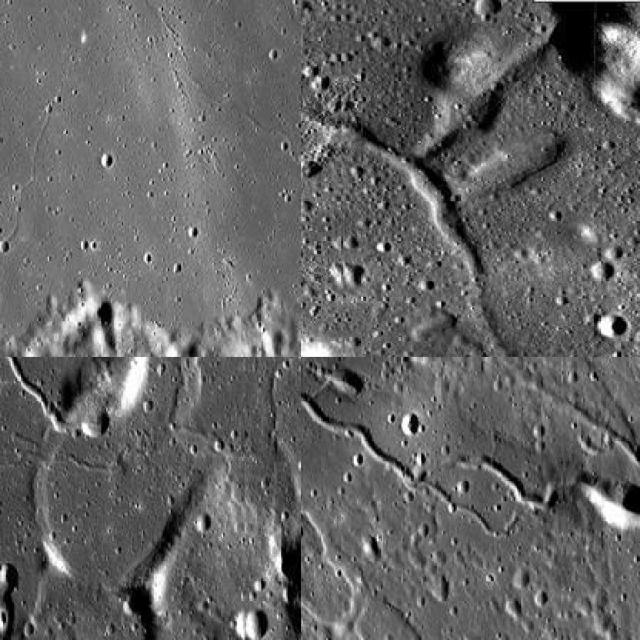rille: (300, 34, 638, 355), (0, 44, 298, 355), (300, 357, 535, 538), (40, 357, 298, 446), (478, 455, 638, 534), (0, 357, 69, 434), (0, 442, 143, 476)
